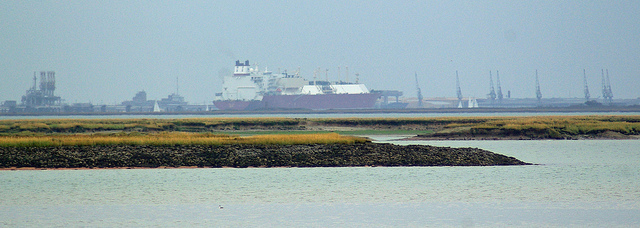LNG_ship: (207, 57, 382, 109)
